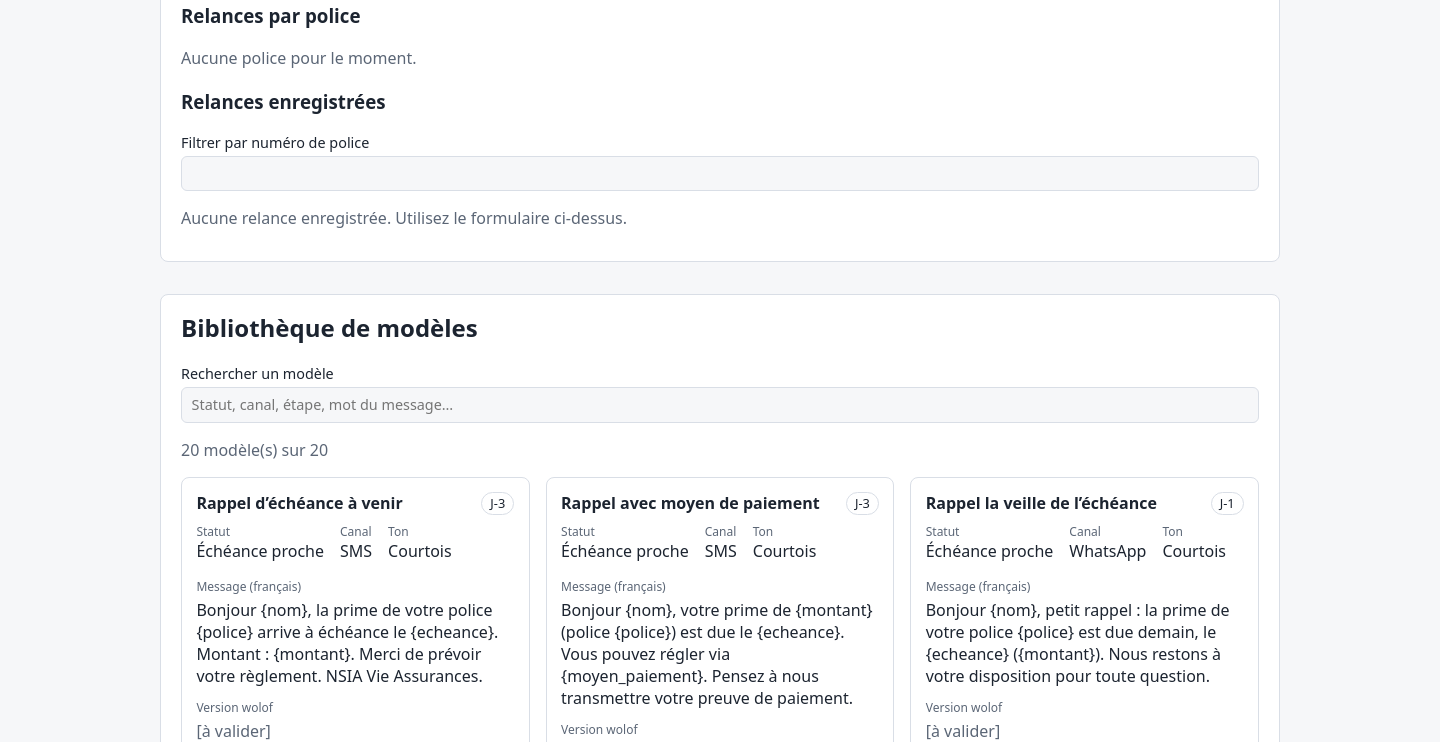
Test case: App › filters the template library by search
(page scrolled)
Expected: the text "20 modèle(s) sur 20" is shown, [181,438,328,460]
Type "escalade" into the search field labelled "Rechercher un modèle" at point(720, 405), box [181,387,1259,422]
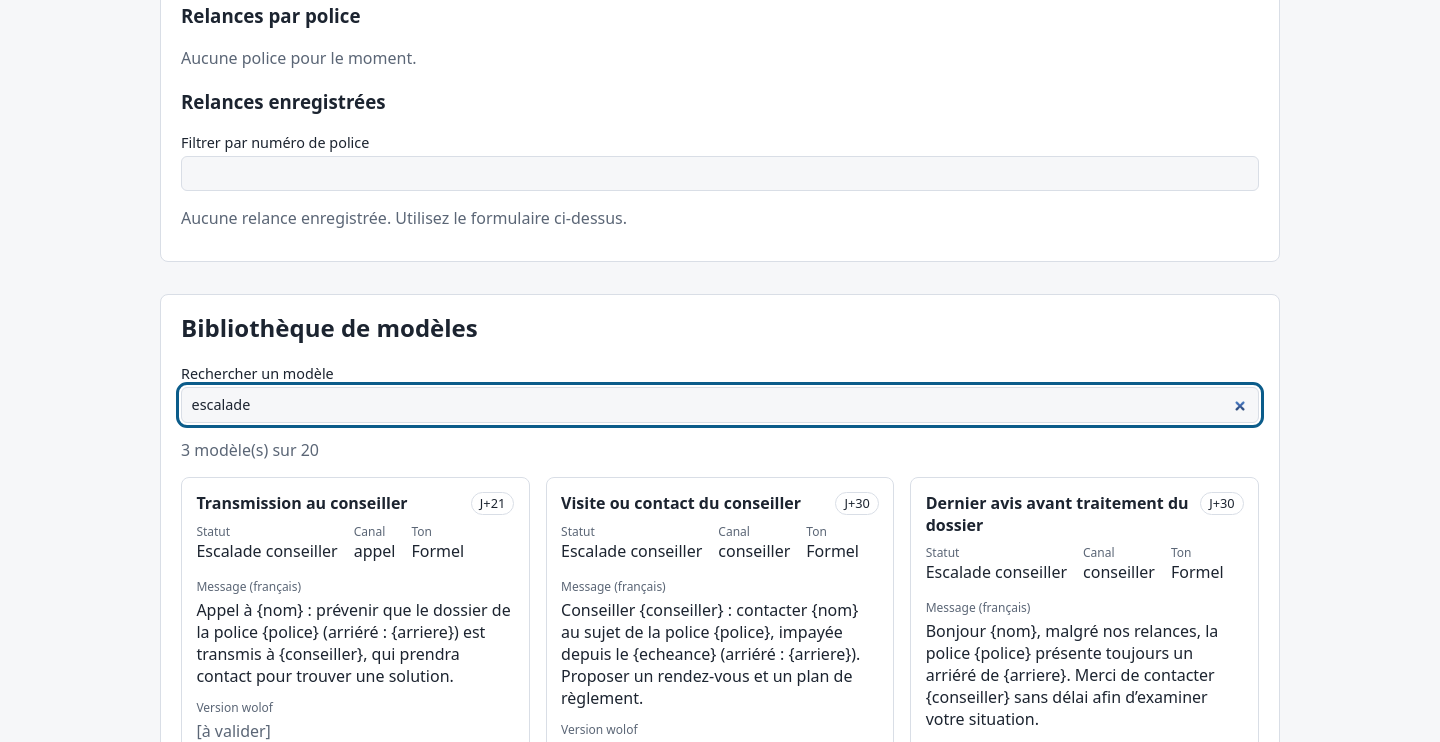
Expected: the message shows "sur 20", [181,438,319,460]
Expected: the text "20 modèle(s) sur 20" is gone
Replace the text in the search field labelled "Rechercher un modèle" with "zzzz" at point(720, 405), box [181,387,1259,422]
(page scrolled)
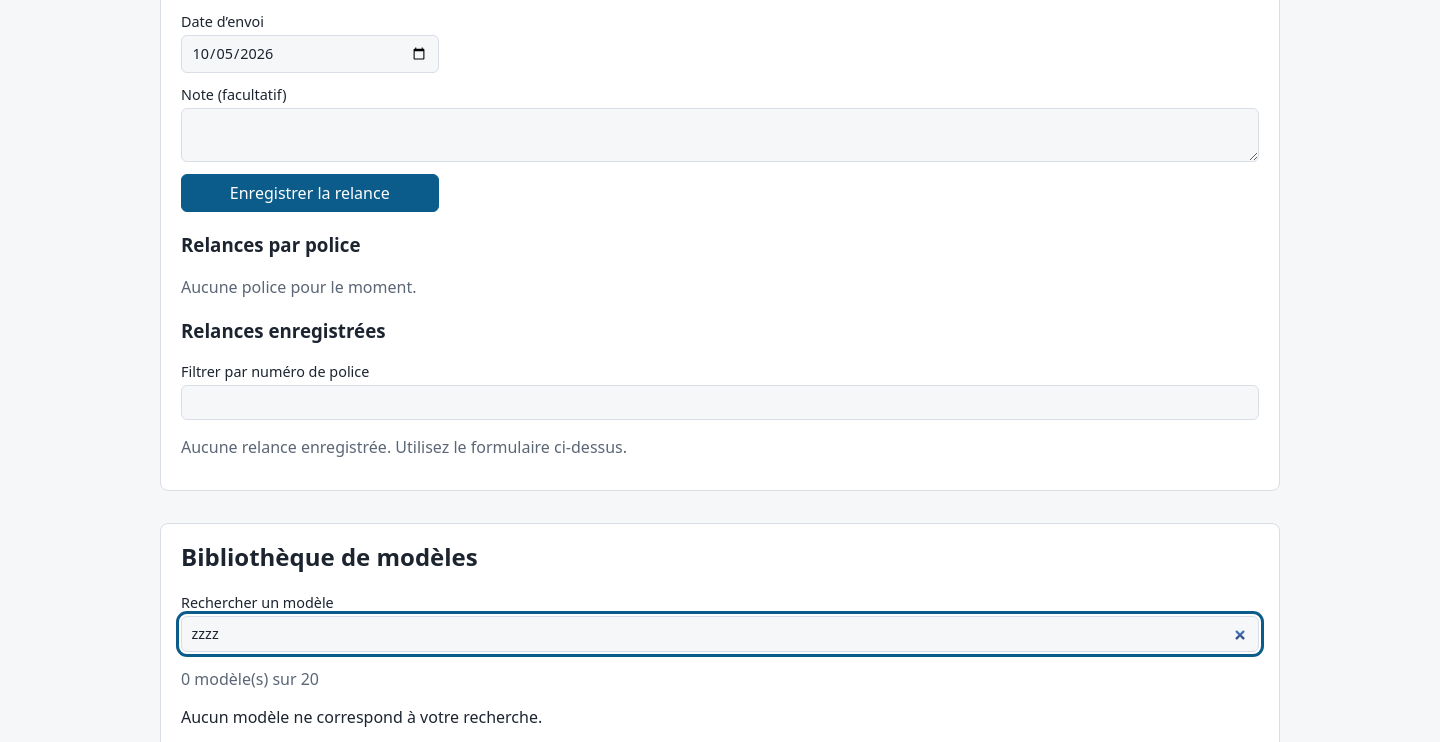
Expected: the text "Aucun modèle ne correspond à votre recherche." is shown, [181,706,542,728]
